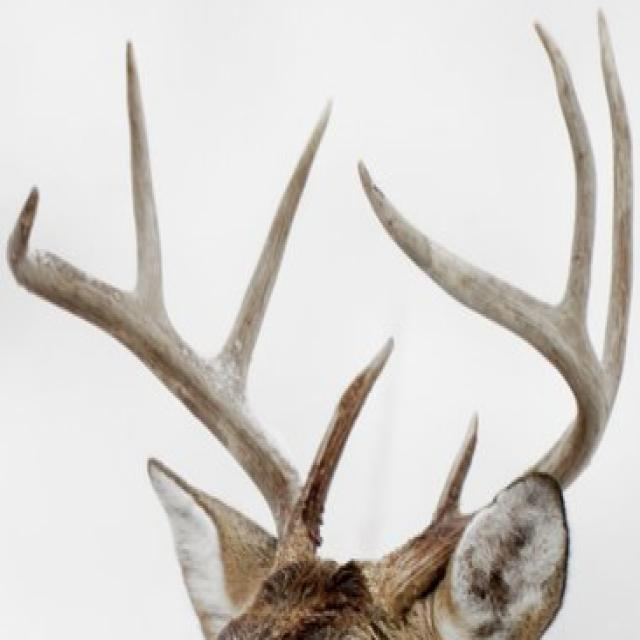L-G1: (430, 406, 481, 523)
L-G2: (596, 7, 633, 387)
L-G3: (532, 19, 597, 334)
R-F: (5, 182, 321, 564)
R-G1: (298, 333, 397, 534)
R-G2: (220, 94, 335, 387)
R-G3: (126, 39, 166, 313)
